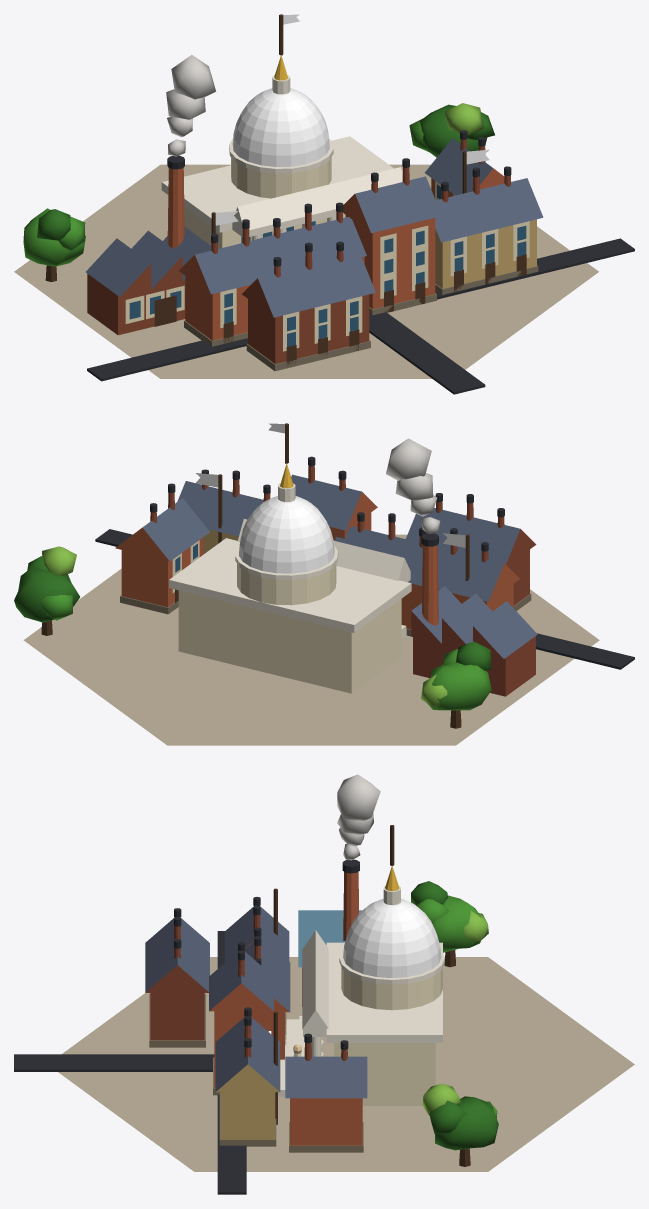
Rendered from capital_2_3.fbx.
The picture shows the model from 3 angles, top to bottom: view 1: azimuth 30°, elevation 25°; view 2: azimuth 150°, elevation 25°; view 3: azimuth 270°, elevation 25°; orthographic projection.
Visible parts, largest first — view 1: capital_2_3; view 2: capital_2_3; view 3: capital_2_3.
Boxes of the visible parts, x1=… form: capital_2_3: x1=14, y1=14, x2=634, y2=394; capital_2_3: x1=14, y1=423, x2=634, y2=745; capital_2_3: x1=14, y1=774, x2=634, y2=1194.
Size of the model in its own units: 221 by 94.24 by 222.
